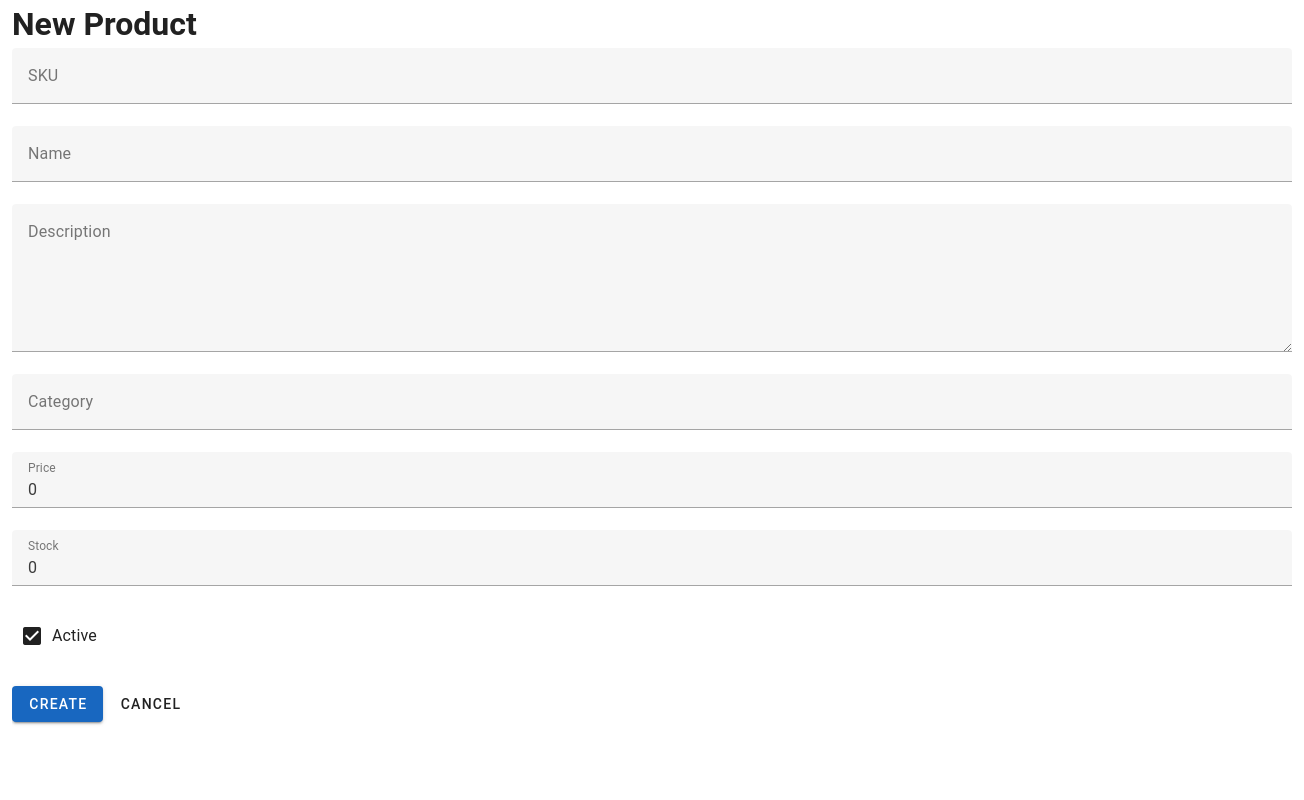
Test case: ProductFormView › shows a validation error for a negative price
This screenshot has width=1304, height=800.
Type "SKU-NEW" into the field labelled "SKU".
click(652, 76); type("SKU-NEW")  # box [12, 48, 1292, 104]
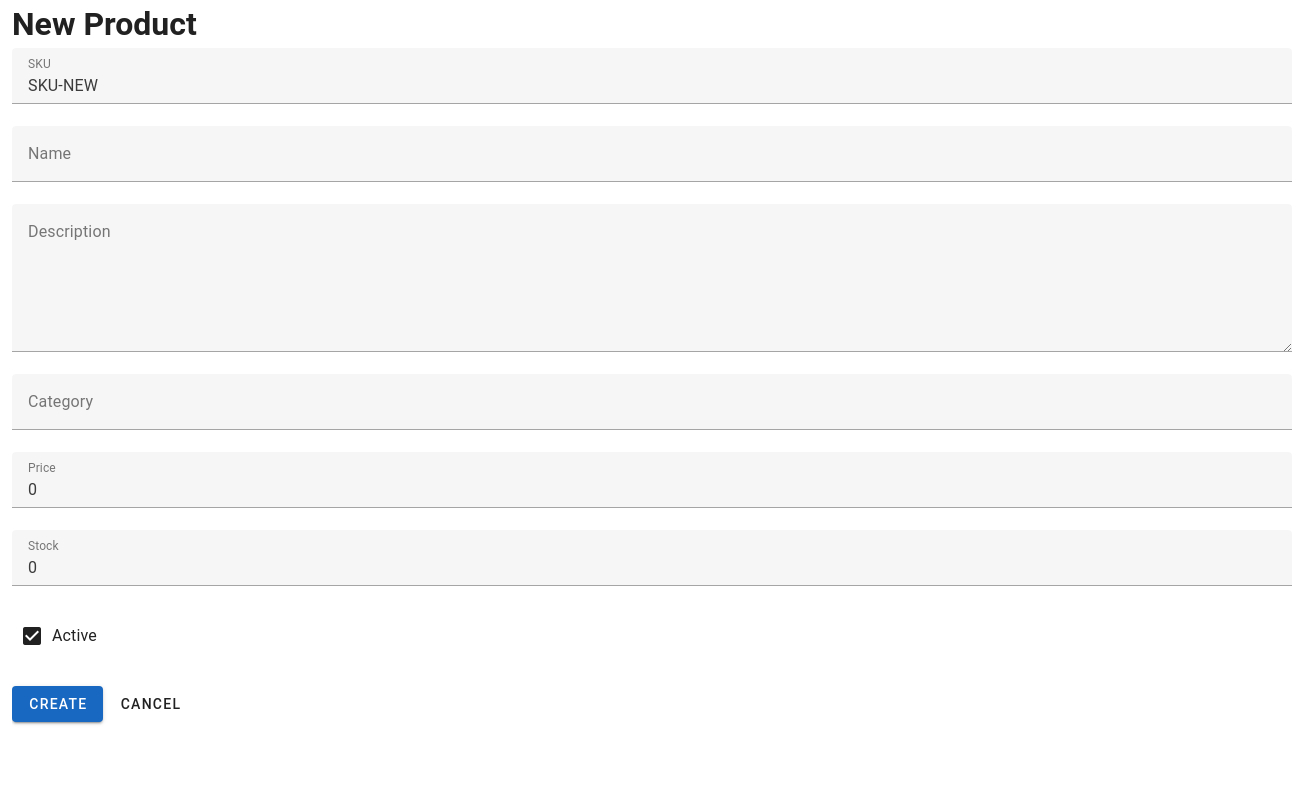
Type "New Widget" into the field labelled "Name".
click(652, 154); type("New Widget")  # box [12, 126, 1292, 182]
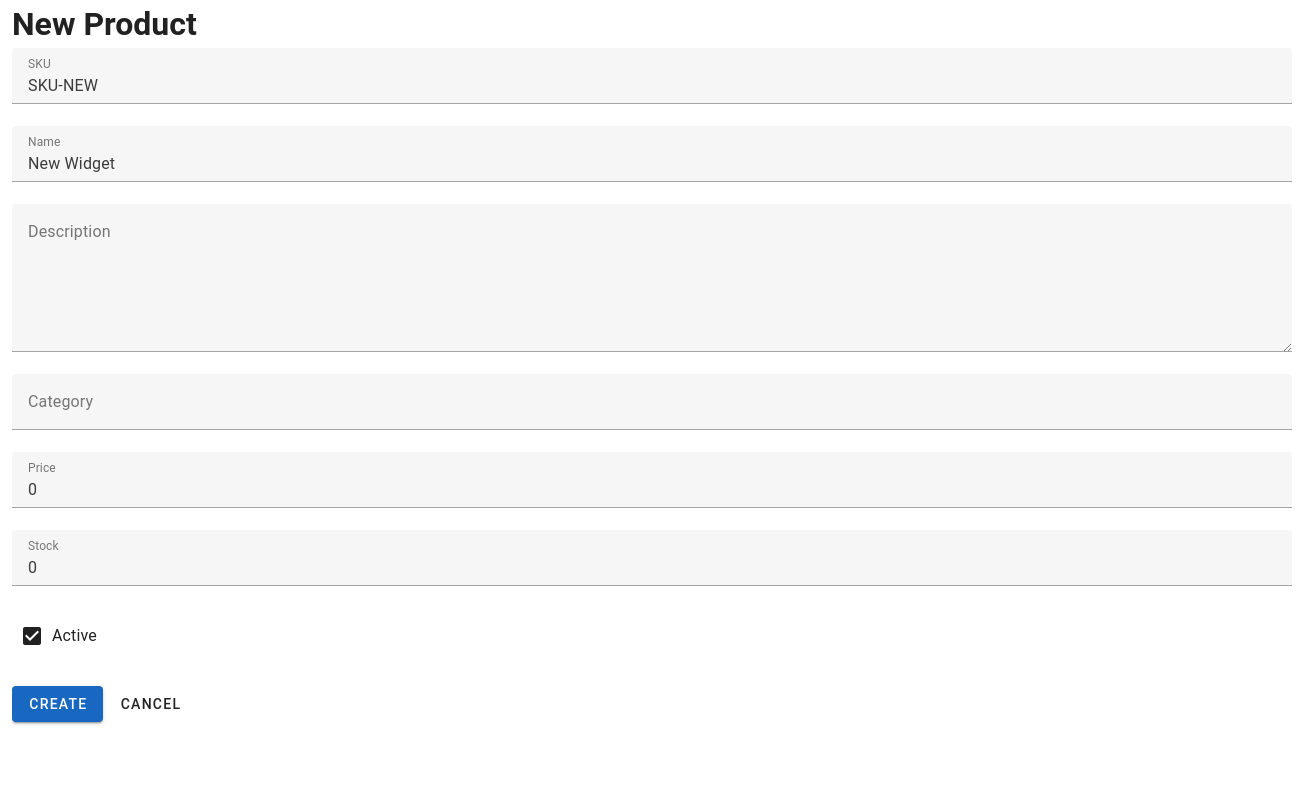
Replace the text in the number field labelled "Price" with "-5" at (652, 480), box [12, 452, 1292, 508]
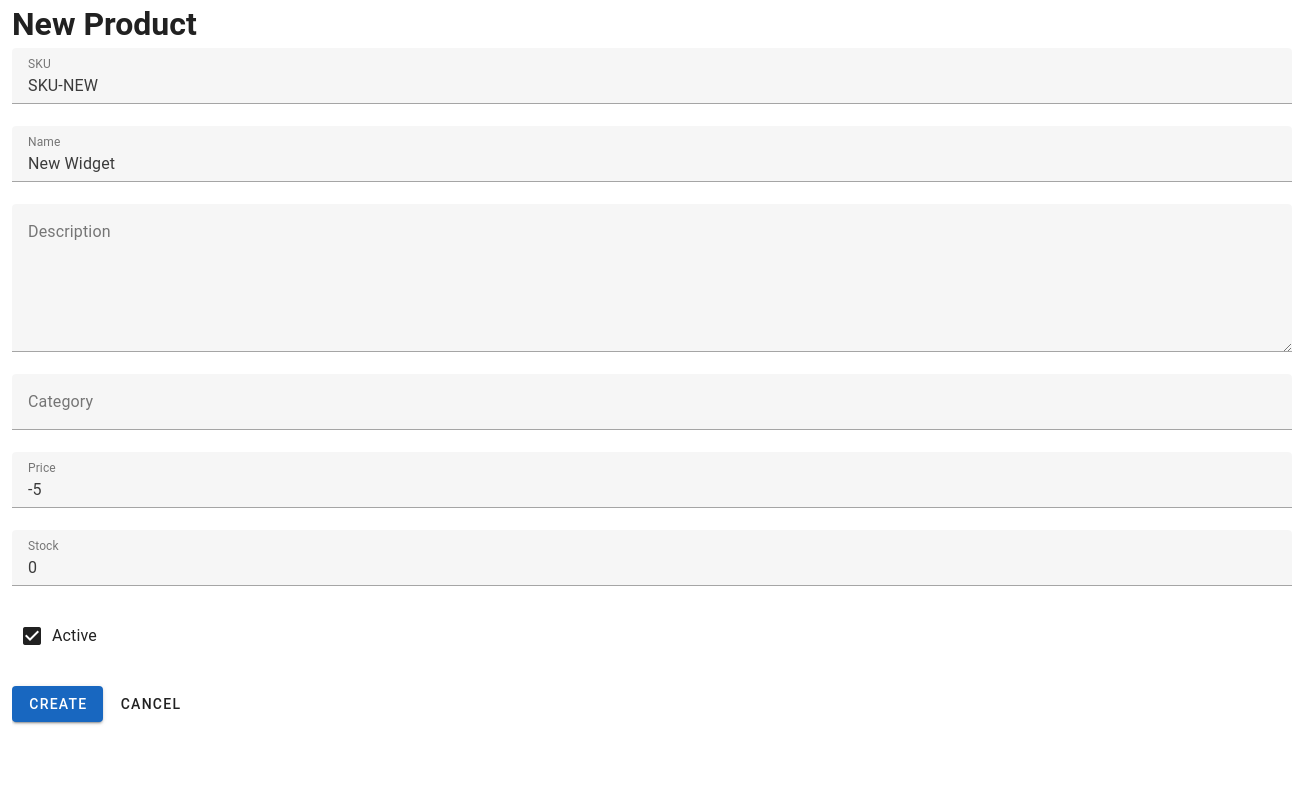
Submit the form
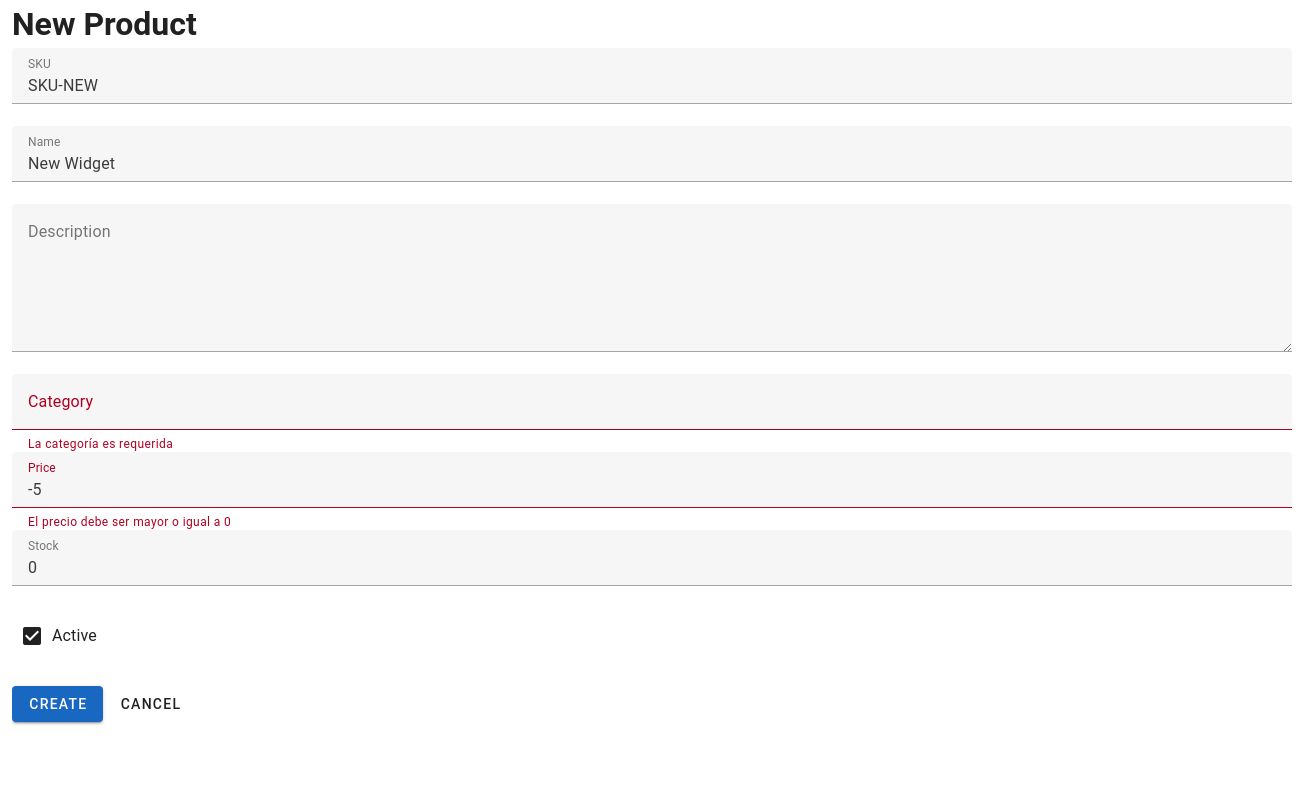
Now the text "El precio debe ser mayor o igual a 0" is shown, box [28, 515, 231, 529]
